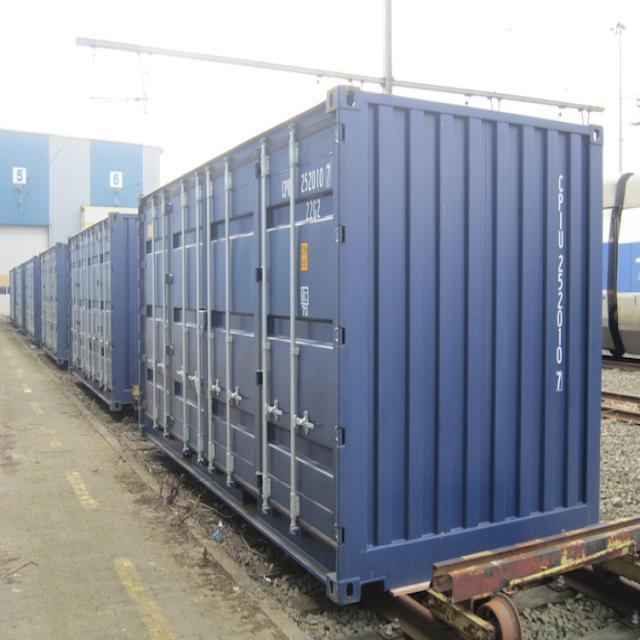container_number: (548, 160, 564, 402)
